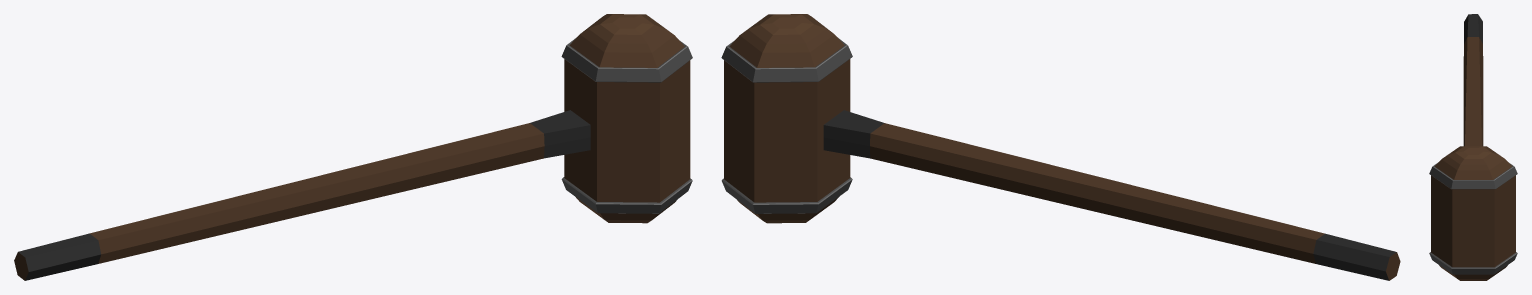
Rendered from War Hammer.fbx.
The picture shows the model from 3 angles, left to right: view 1: azimuth 30°, elevation 25°; view 2: azimuth 150°, elevation 25°; view 3: azimuth 270°, elevation 25°; orthographic projection. The views are drawn at different scales.
Parts seen in each view (by area): view 1: Otsuchi; view 2: Otsuchi; view 3: Otsuchi.
Boxes of the visible parts, x1=… form: Otsuchi: x1=14, y1=14, x2=692, y2=280; Otsuchi: x1=721, y1=14, x2=1400, y2=280; Otsuchi: x1=1429, y1=14, x2=1517, y2=280.
Bounding box in the file's own units: 152 × 42.4 × 27.47.
